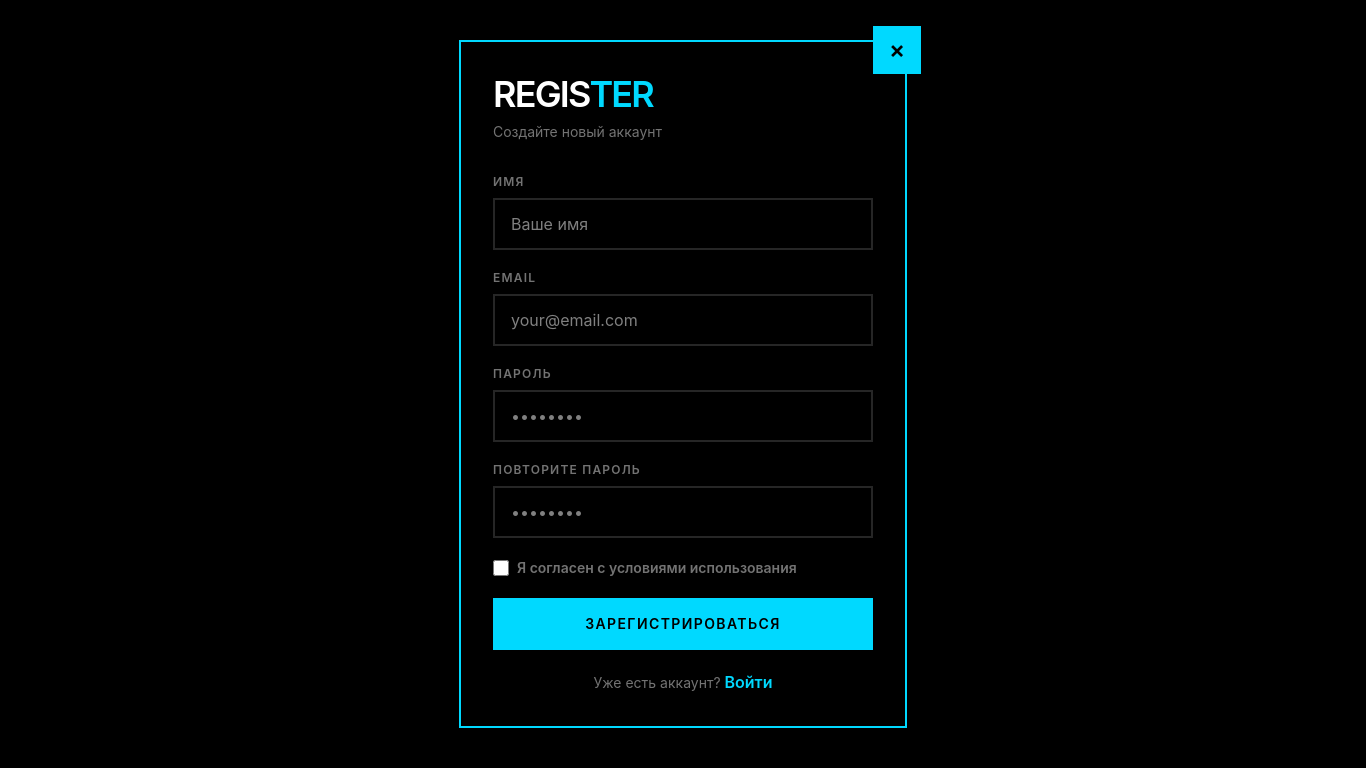
Scenario: RegisterModal — signup flow › shows success screen after successful registration
The width and height of the screenshot is (1366, 768).
Type "Иван" into the field with placeholder "Ваше имя" at (683, 224), box top-left (493, 198), bottom-right (873, 250)
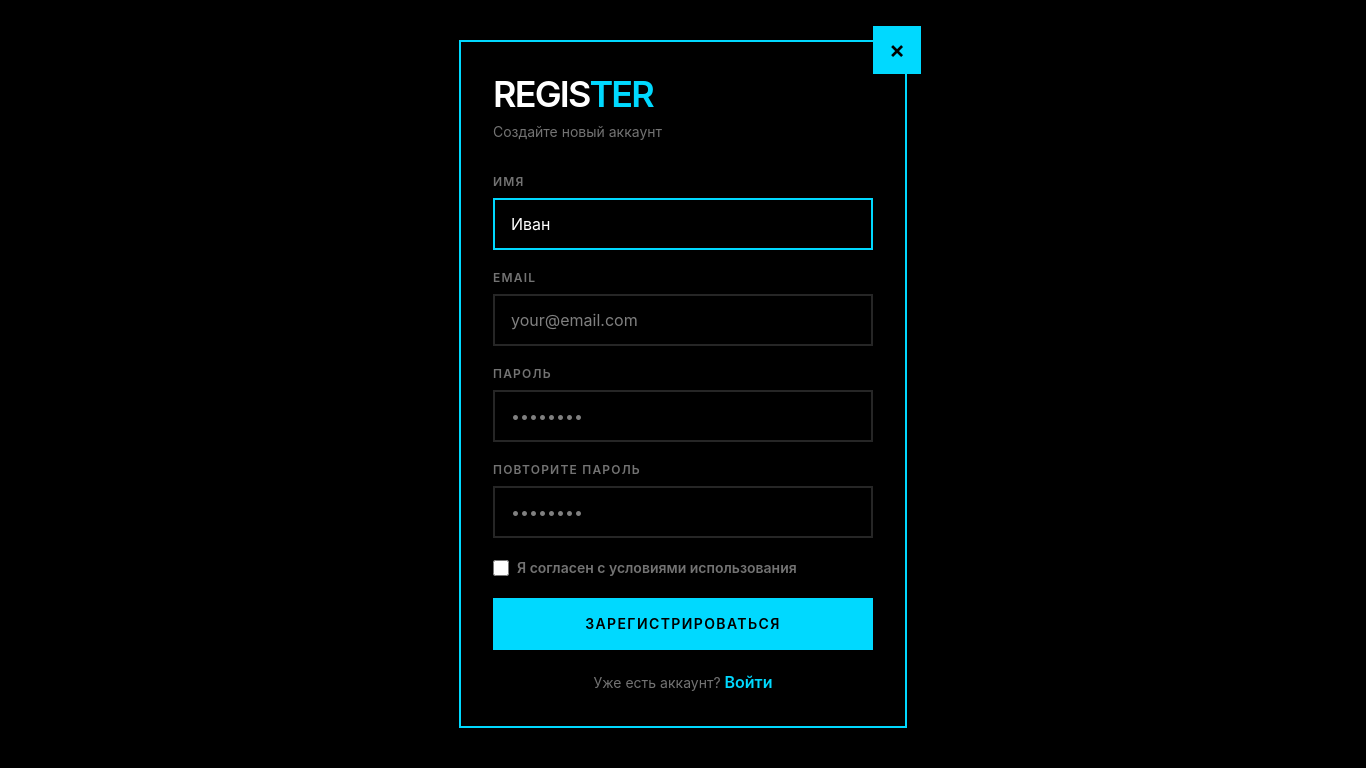
Type "success@test.com" into the field with placeholder "your@email.com" at (683, 320), box top-left (493, 294), bottom-right (873, 346)
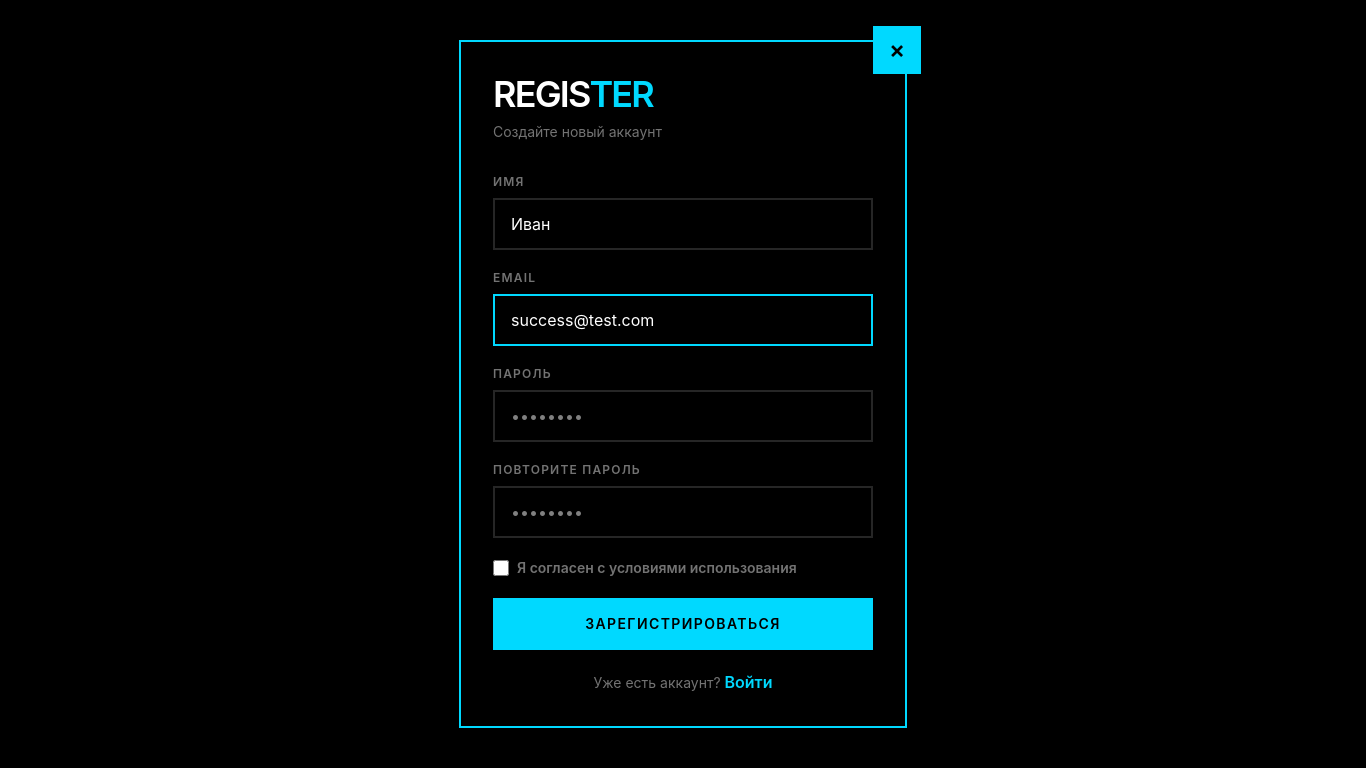
Type "password123" into the 1st password field with placeholder "••••••••" at (683, 416), box top-left (493, 390), bottom-right (873, 442)
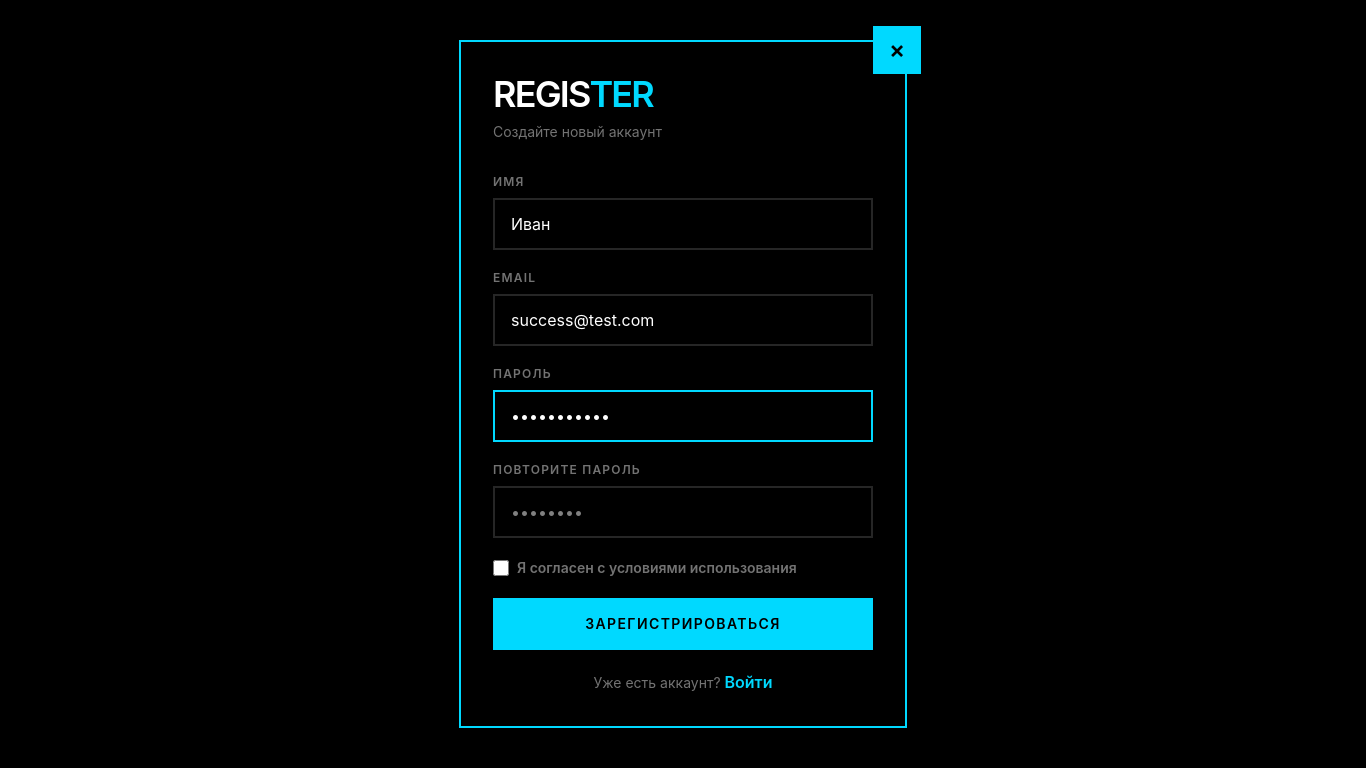
Type "password123" into the password field with placeholder "••••••••" at (683, 512), box top-left (493, 486), bottom-right (873, 538)
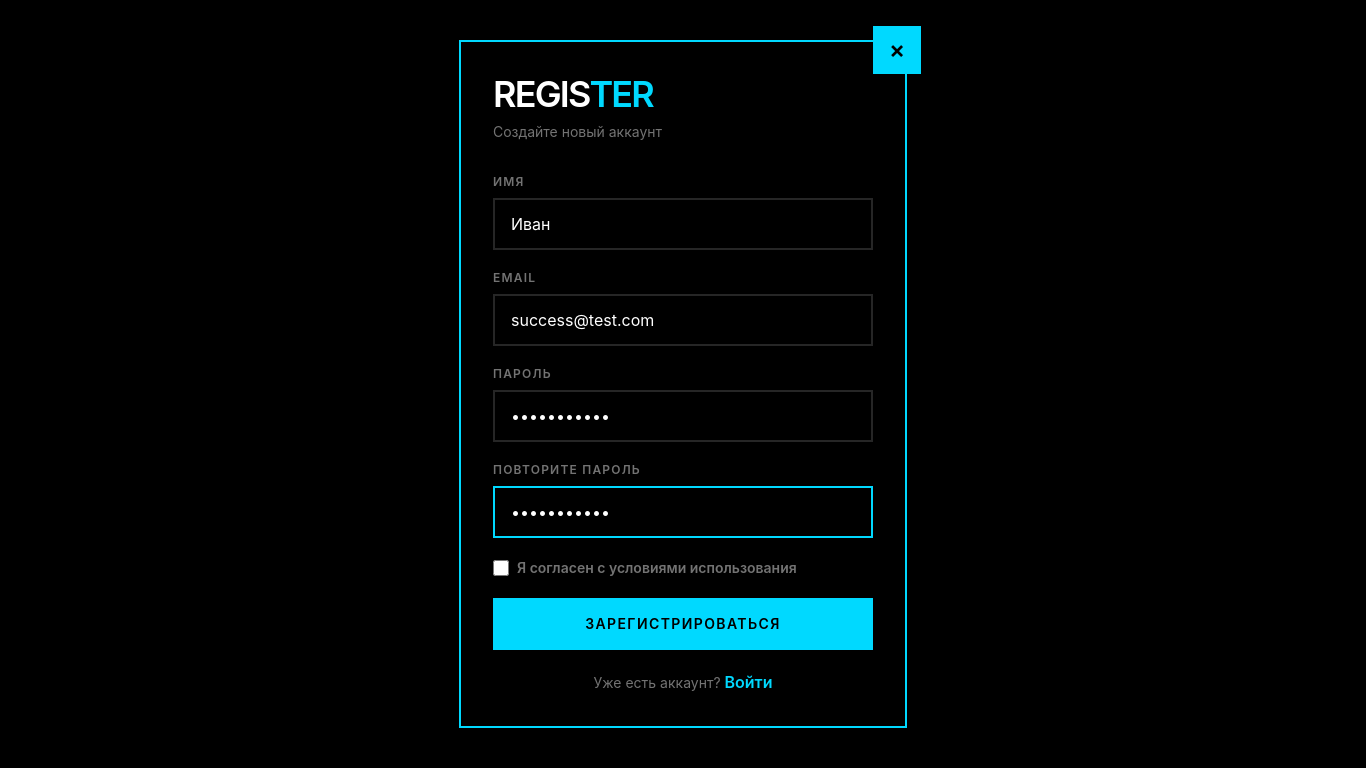
Click the checkbox at (501, 568), box top-left (493, 560), bottom-right (509, 576)
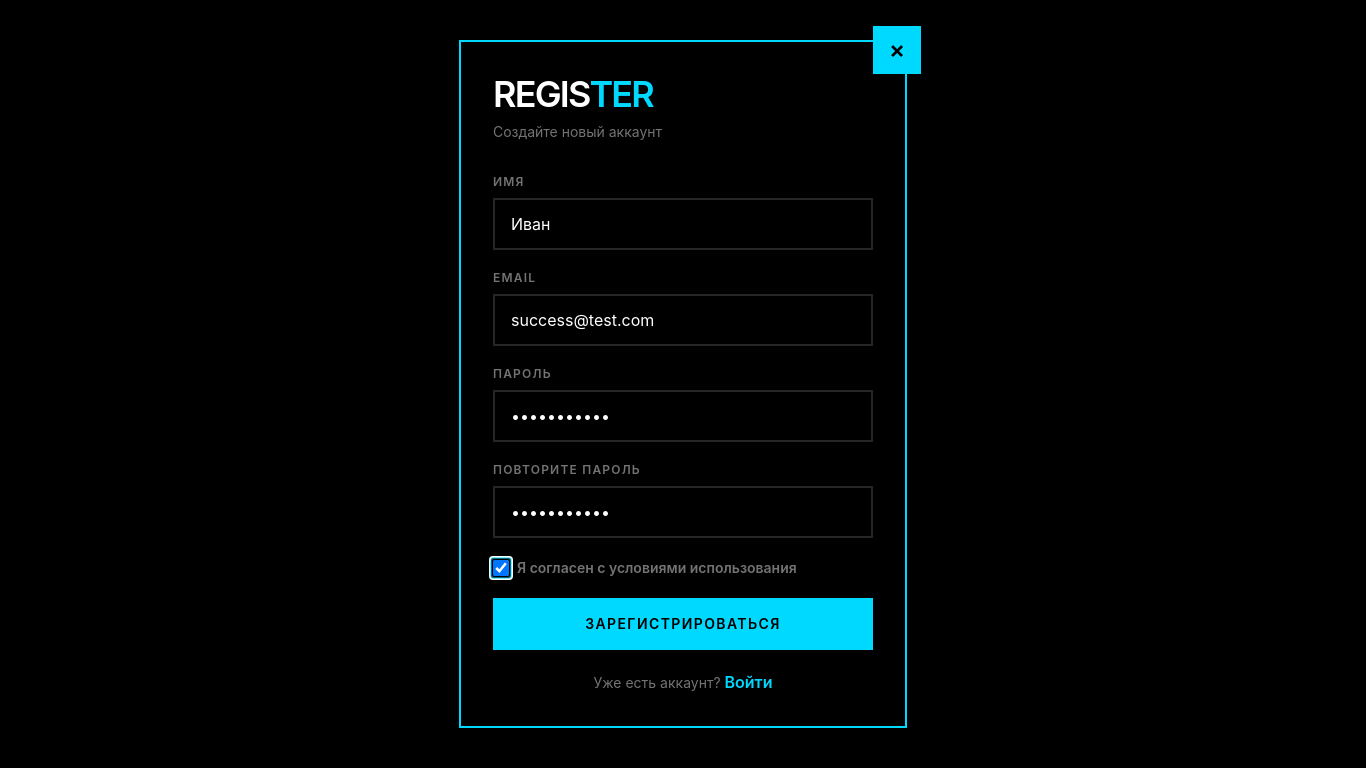
Click the button "ЗАРЕГИСТРИРОВАТЬСЯ" at (683, 624), box top-left (493, 598), bottom-right (873, 650)
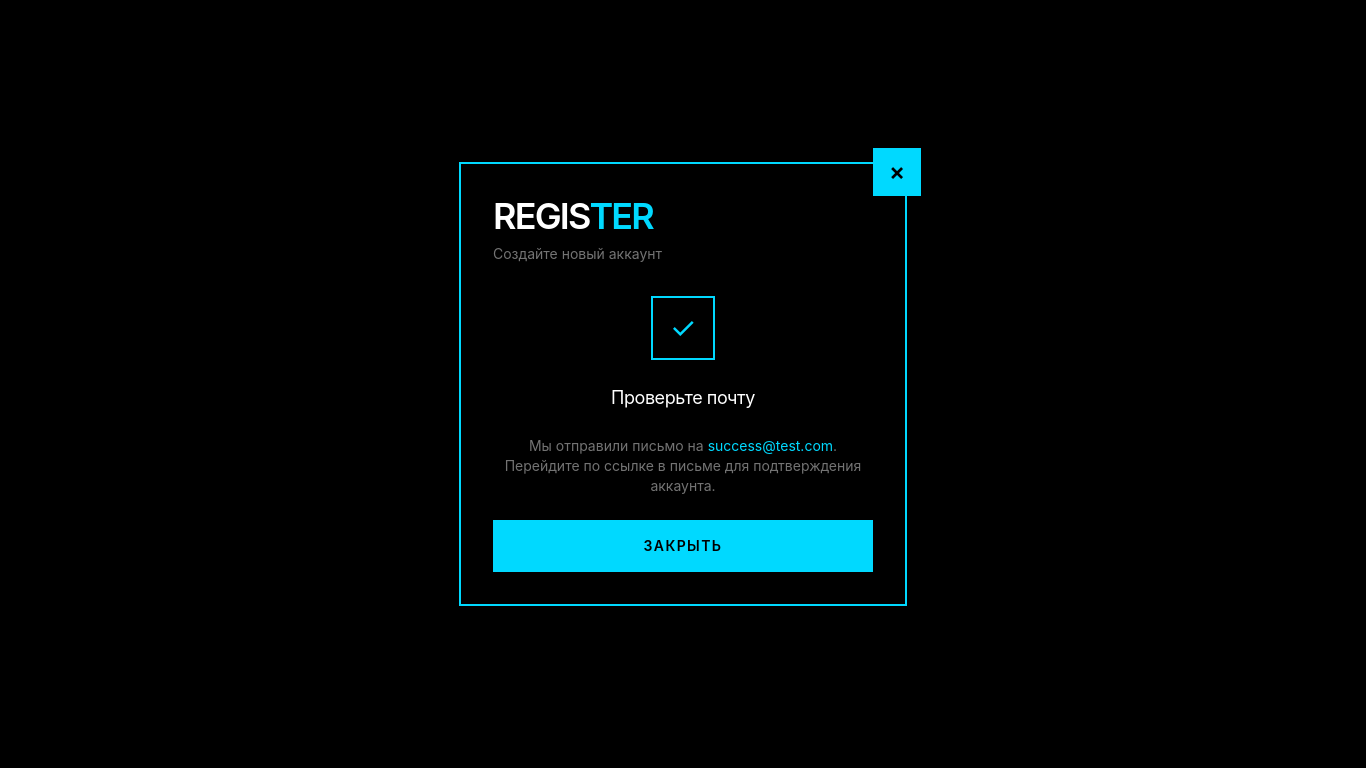
Expected: the text "Проверьте почту" is shown, top-left (611, 387), bottom-right (755, 408)
Expected: the text "success@test.com" is shown, top-left (708, 437), bottom-right (833, 454)
